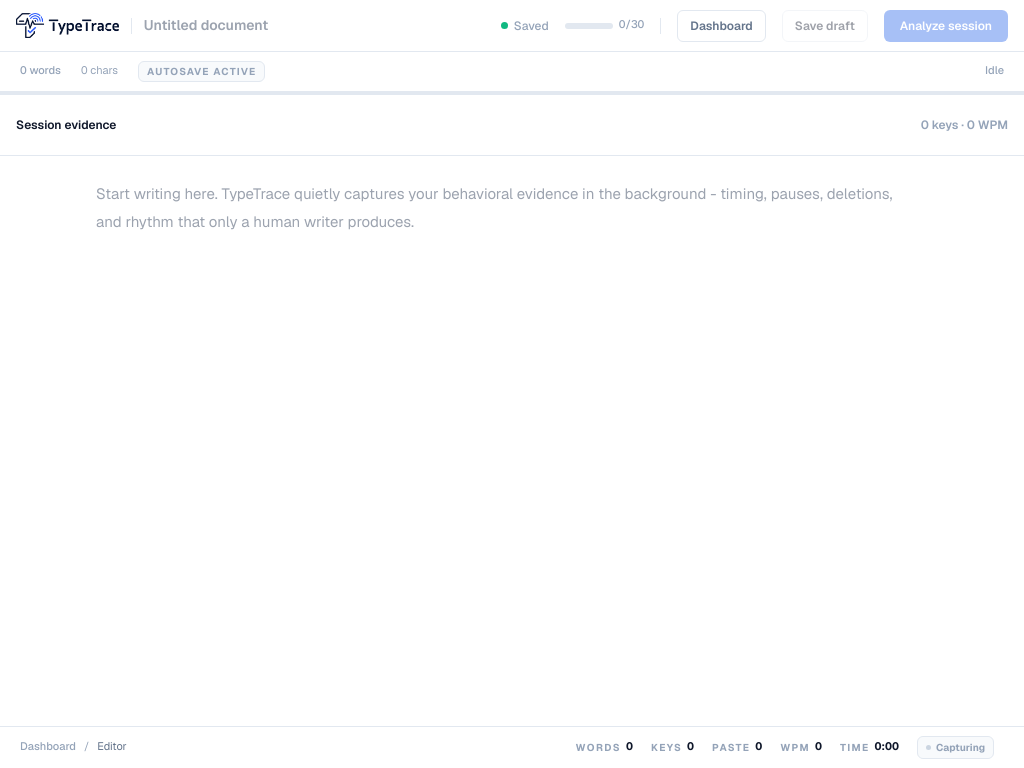
EditorPage final behavioral closure › reports one controlled autosave failure and leaves the editor unsaved
This screenshot has width=1024, height=768.
Replace the text in the text box named "Writing workspace" with "Autosave failure body" at (507, 420), box top-left (96, 180), bottom-right (918, 660)
Wait 360 ms
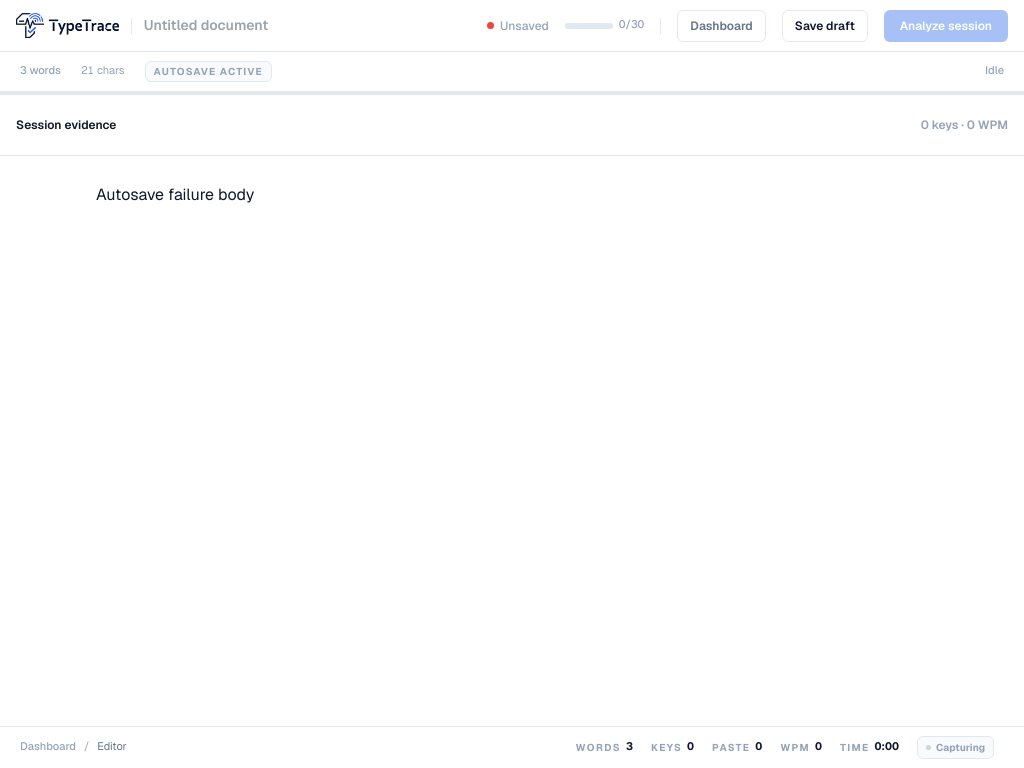
Result: the text "Unsaved" is shown at top-left (500, 16), bottom-right (549, 34)
